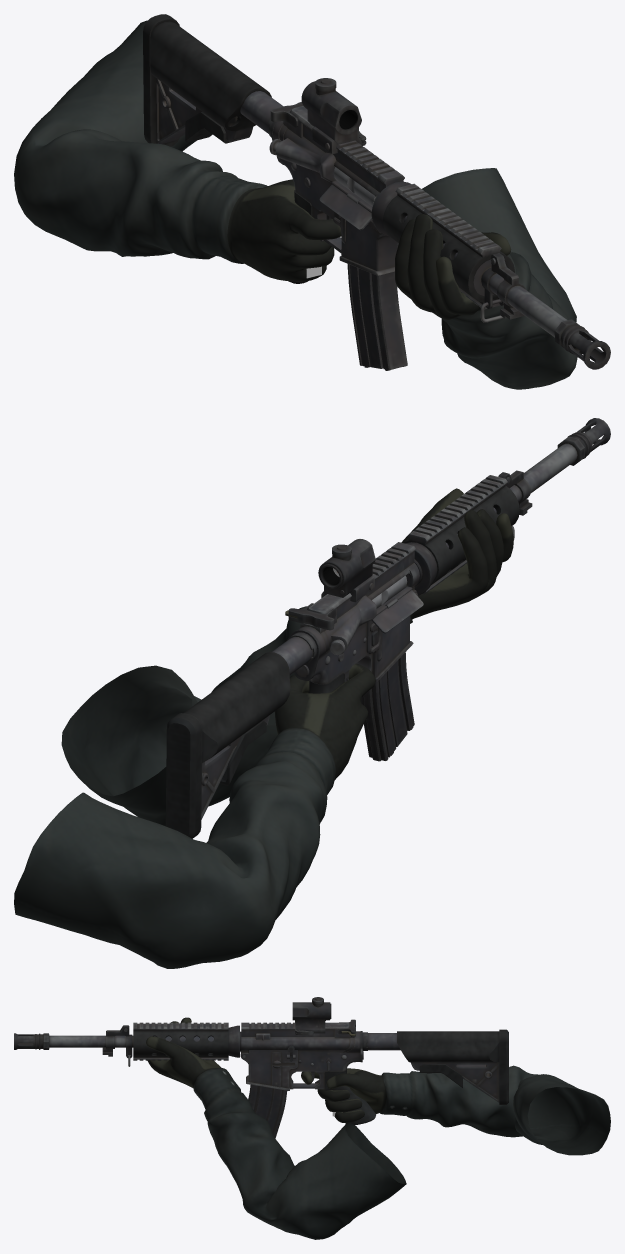
Rendered from gun_000003.obj.
The picture shows the model from 3 angles, top to bottom: view 1: azimuth 30°, elevation 25°; view 2: azimuth 150°, elevation 25°; view 3: azimuth 270°, elevation 25°; orthographic projection. The views are drawn at different scales.
Parts seen in each view (by area): view 1: armmesh_arms_0, base_carbine_0, clip_carbine_0, scope_carbine_0, lid_carbine_0, bolt_carbine_0; view 2: armmesh_arms_0, base_carbine_0, clip_carbine_0, scope_carbine_0, lid_carbine_0, handle_carbine_0; view 3: armmesh_arms_0, base_carbine_0, scope_carbine_0, clip_carbine_0.
Boxes of the visible parts, x1,y1,x2,y2 form: armmesh_arms_0: (14, 20, 577, 389); base_carbine_0: (143, 14, 610, 369); clip_carbine_0: (347, 264, 407, 370); scope_carbine_0: (301, 78, 366, 154); lid_carbine_0: (319, 184, 371, 230); bolt_carbine_0: (333, 167, 375, 206); armmesh_arms_0: (14, 488, 513, 968); base_carbine_0: (165, 418, 610, 838); clip_carbine_0: (361, 652, 414, 761); scope_carbine_0: (318, 539, 375, 602); lid_carbine_0: (371, 590, 423, 633); handle_carbine_0: (288, 603, 336, 630); armmesh_arms_0: (146, 1017, 610, 1239); base_carbine_0: (14, 1022, 508, 1124); scope_carbine_0: (292, 997, 331, 1035); clip_carbine_0: (248, 1085, 287, 1138).
Size of the model in its own units: 45.52 by 41.95 by 122.
